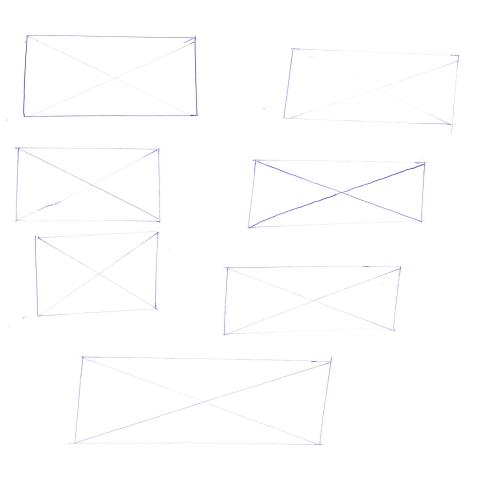Image: (73, 354, 331, 447), (22, 35, 201, 118), (281, 46, 460, 126), (222, 263, 403, 335), (246, 159, 429, 228), (32, 229, 163, 319), (14, 148, 161, 225)
